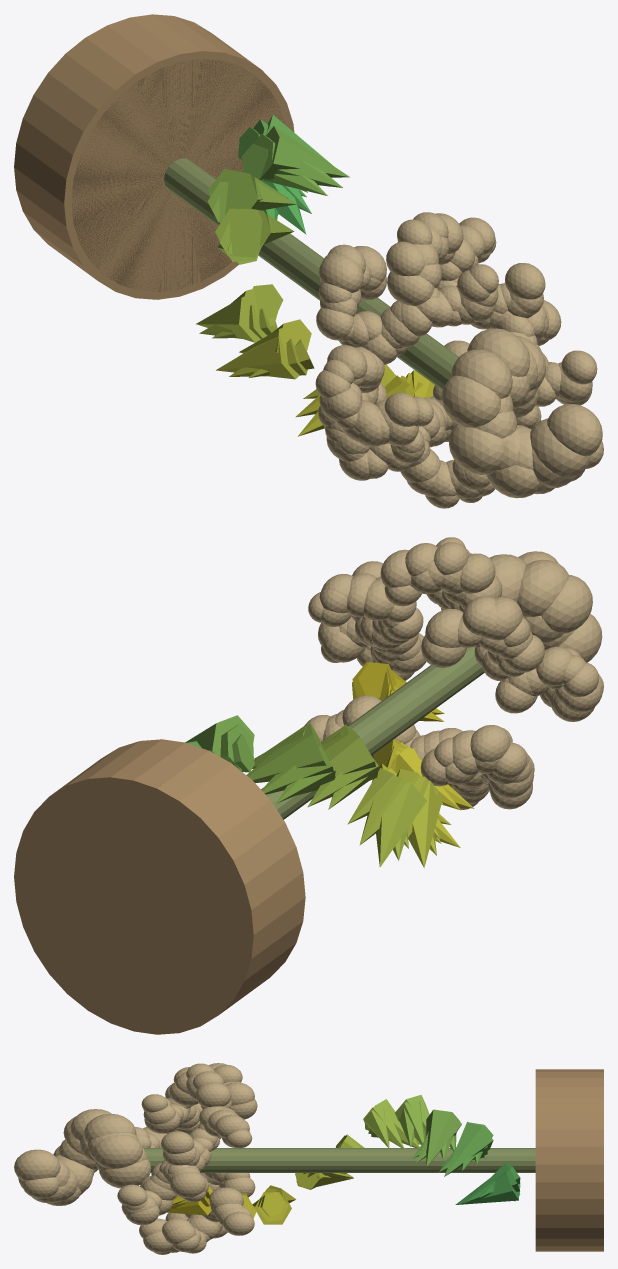
The model's file is stage_8_maturazione.glb.
3 renders of one model, top to bottom at view 1: azimuth 30°, elevation 25°; view 2: azimuth 150°, elevation 25°; view 3: azimuth 270°, elevation 25°, orthographic. The views are drawn at different scales.
Visible parts, largest first — view 1: world; view 2: world; view 3: world.
Part boxes in pixels (x1,y1,x2,y2): world: (14,14,603,508); world: (14,537,603,1034); world: (14,1063,603,1254).
Bounding box in the file's own units: 17.33 × 17.9 × 51.73.
